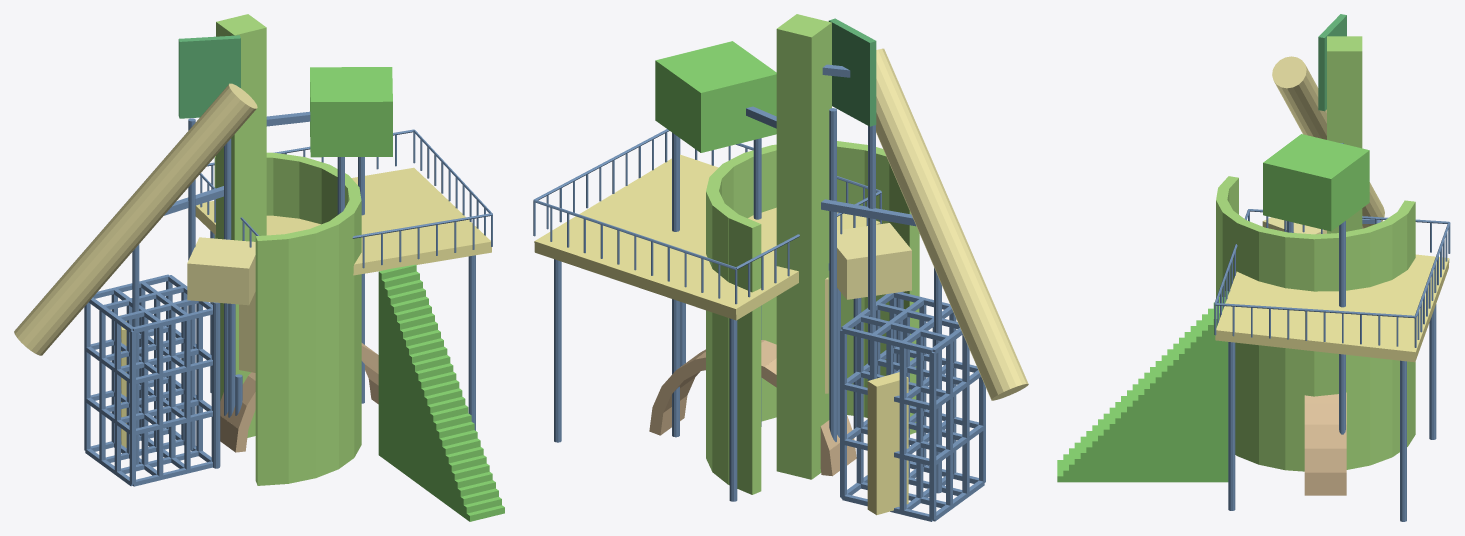
File: folie_tag_103.glb
3 views of the same model, side by side, from view 1: azimuth 30°, elevation 25°; view 2: azimuth 150°, elevation 25°; view 3: azimuth 270°, elevation 25° (orthographic). The views are drawn at different scales.
Parts seen in each view (by area): view 1: folie_tag_103_01_curve, folie_tag_103_02_cage, folie_tag_103_stairs, folie_tag_103_line, folie_tag_103_05_tube, folie_tag_103_00_plate, folie_tag_103_core, folie_tag_103_03_block, folie_tag_103_08_panel, folie_tag_103_09_block, folie_tag_103_04_arc, folie_tag_103_06_panel; view 2: folie_tag_103_core, folie_tag_103_01_curve, folie_tag_103_02_cage, folie_tag_103_line, folie_tag_103_00_plate, folie_tag_103_05_tube, folie_tag_103_03_block, folie_tag_103_07_fin, folie_tag_103_09_block, folie_tag_103_08_panel, folie_tag_103_04_arc; view 3: folie_tag_103_01_curve, folie_tag_103_stairs, folie_tag_103_00_plate, folie_tag_103_line, folie_tag_103_03_block, folie_tag_103_core, folie_tag_103_04_arc, folie_tag_103_05_tube, folie_tag_103_08_panel, folie_tag_103_09_block.
Part boxes in pixels (bbox=[...]): folie_tag_103_01_curve: bbox=[214, 152, 361, 485]; folie_tag_103_02_cage: bbox=[84, 274, 212, 486]; folie_tag_103_stairs: bbox=[378, 264, 504, 521]; folie_tag_103_line: bbox=[132, 111, 492, 468]; folie_tag_103_05_tube: bbox=[14, 83, 257, 355]; folie_tag_103_00_plate: bbox=[195, 167, 491, 275]; folie_tag_103_core: bbox=[216, 14, 266, 437]; folie_tag_103_03_block: bbox=[310, 67, 392, 157]; folie_tag_103_08_panel: bbox=[178, 35, 240, 118]; folie_tag_103_09_block: bbox=[187, 237, 255, 305]; folie_tag_103_04_arc: bbox=[220, 343, 378, 452]; folie_tag_103_06_panel: bbox=[239, 292, 255, 372]; folie_tag_103_core: bbox=[776, 14, 831, 479]; folie_tag_103_01_curve: bbox=[706, 141, 919, 494]; folie_tag_103_02_cage: bbox=[840, 292, 985, 521]; folie_tag_103_line: bbox=[533, 64, 941, 501]; folie_tag_103_00_plate: bbox=[534, 154, 880, 320]; folie_tag_103_05_tube: bbox=[876, 48, 1028, 400]; folie_tag_103_03_block: bbox=[655, 41, 776, 152]; folie_tag_103_07_fin: bbox=[867, 372, 908, 515]; folie_tag_103_09_block: bbox=[837, 223, 911, 299]; folie_tag_103_08_panel: bbox=[828, 18, 876, 126]; folie_tag_103_04_arc: bbox=[649, 340, 856, 476]; folie_tag_103_01_curve: bbox=[1216, 176, 1415, 471]; folie_tag_103_stairs: bbox=[1057, 291, 1228, 482]; folie_tag_103_00_plate: bbox=[1215, 254, 1449, 362]; folie_tag_103_line: bbox=[1214, 143, 1450, 521]; folie_tag_103_03_block: bbox=[1263, 134, 1369, 231]; folie_tag_103_core: bbox=[1327, 36, 1362, 233]; folie_tag_103_04_arc: bbox=[1304, 392, 1346, 495]; folie_tag_103_05_tube: bbox=[1272, 56, 1384, 228]; folie_tag_103_08_panel: bbox=[1318, 14, 1346, 111]; folie_tag_103_09_block: bbox=[1262, 217, 1326, 234].
Bounding box in the file's own units: 14.53 × 13.33 × 12.23.
